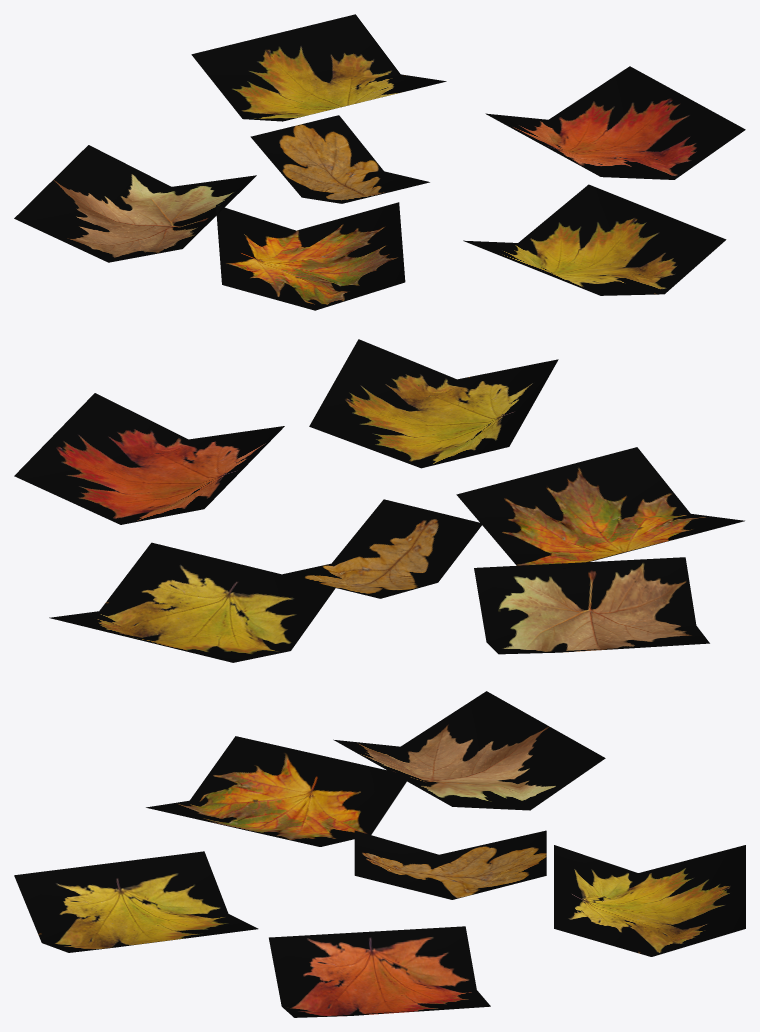
File: Leafs1.fbx
3 renders of one model, top to bottom at view 1: azimuth 30°, elevation 25°; view 2: azimuth 150°, elevation 25°; view 3: azimuth 270°, elevation 25°, orthographic. The views are drawn at different scales.
Visible parts, largest first — view 1: polySurface324; view 2: polySurface324; view 3: polySurface324.
Boxes of the visible parts, <box> form: polySurface324: <box>14,14,745,310</box>; polySurface324: <box>14,339,744,662</box>; polySurface324: <box>14,691,745,1017</box>.
Bounding box in the file's own units: 1.11 × 0.0449 × 1.05.
